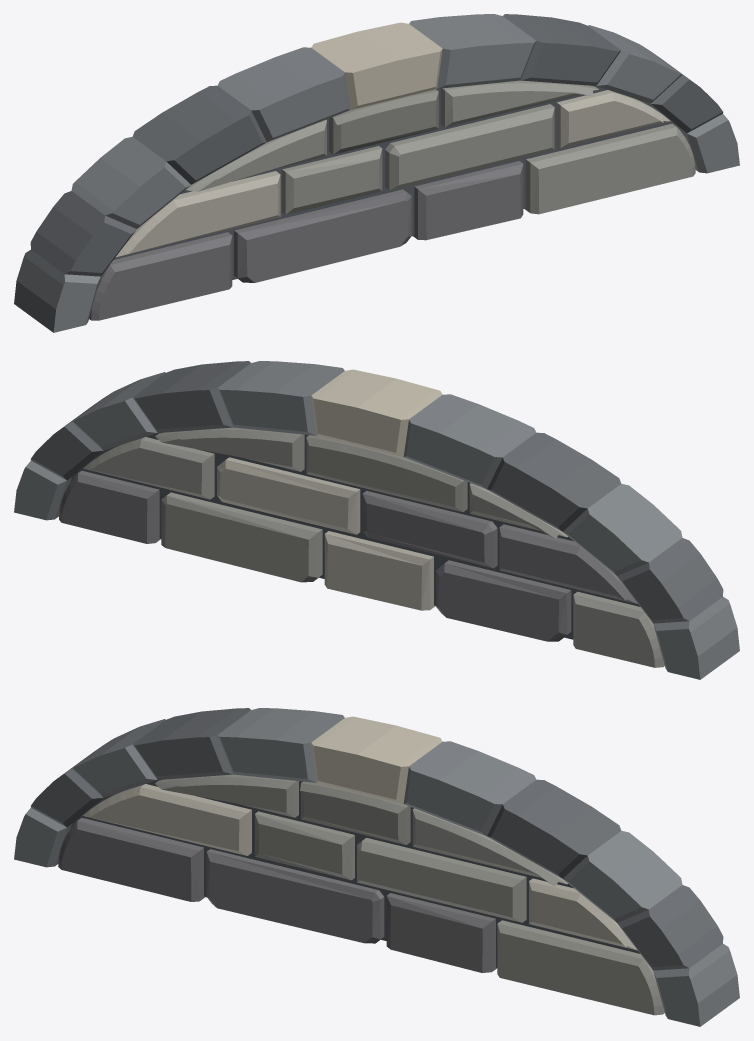
Rendered from SM_LPD_Struct_Lunette_01.fbx.
3 views of the same model, one above another, from view 1: azimuth 30°, elevation 25°; view 2: azimuth 150°, elevation 25°; view 3: azimuth 330°, elevation 25° (orthographic).
Visible parts, largest first — view 1: SM_LPD_Struct_Lunette_01; view 2: SM_LPD_Struct_Lunette_01; view 3: SM_LPD_Struct_Lunette_01.
Boxes of the visible parts, <box> form: SM_LPD_Struct_Lunette_01: <box>14,14,739,332</box>; SM_LPD_Struct_Lunette_01: <box>14,361,739,679</box>; SM_LPD_Struct_Lunette_01: <box>14,708,739,1026</box>.
Bounding box in the file's own units: 4 × 1.05 × 0.4.
